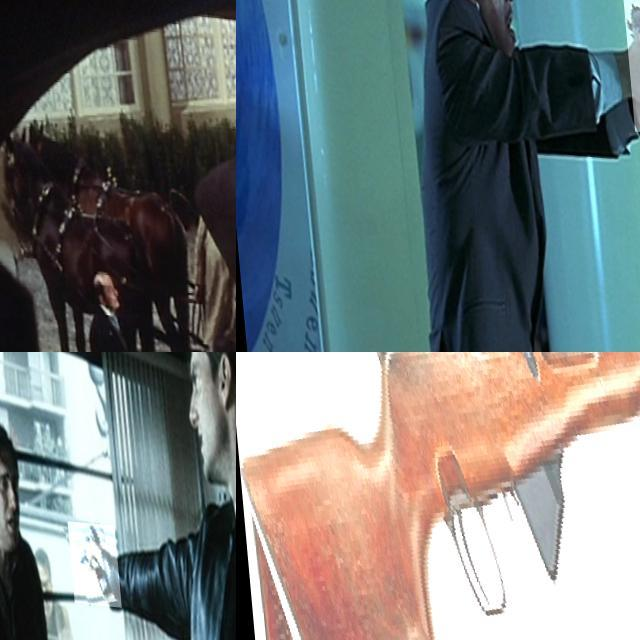gun-knife-thesis - v11 Yolov5 augmented: (236, 352, 640, 640), (62, 515, 116, 601)
